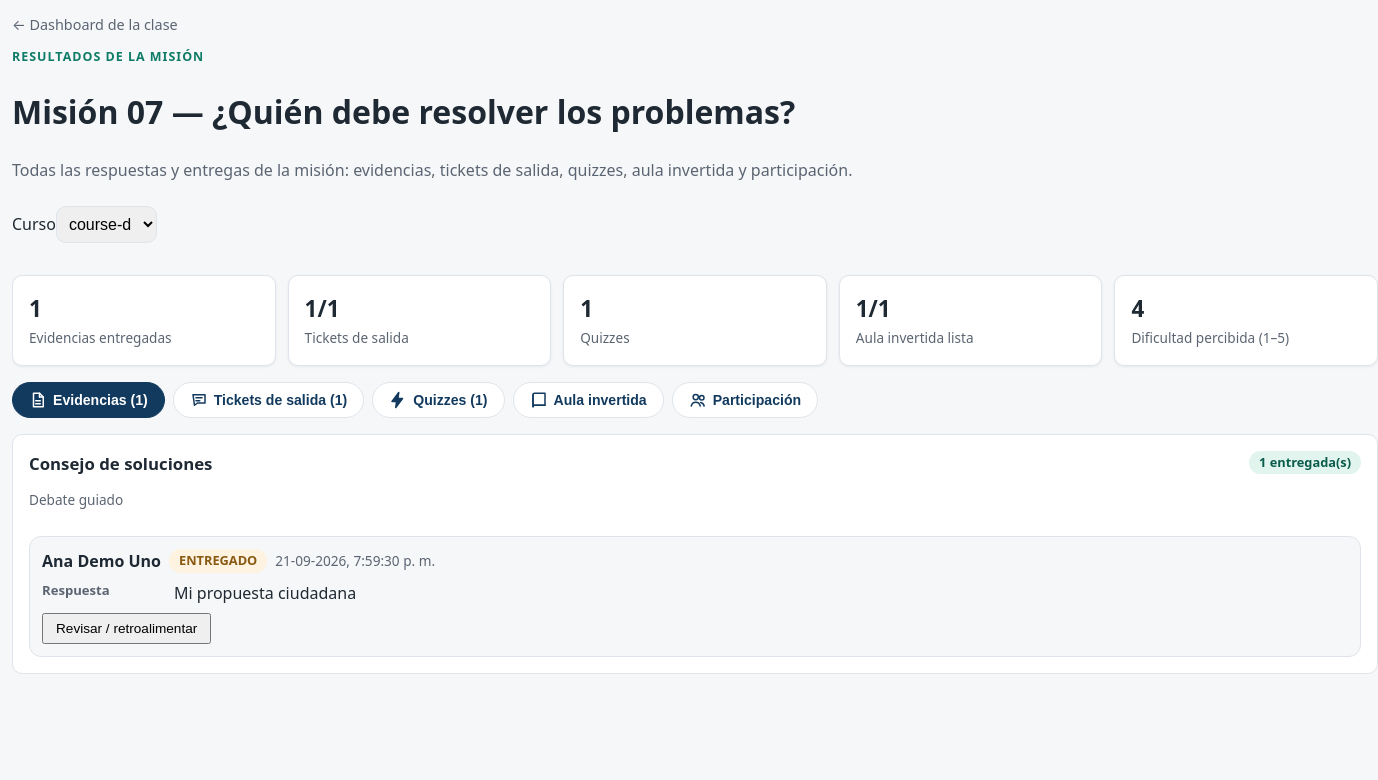
it: MissionResultsView › muestra evidencias, tickets y quizzes de la misión
The width and height of the screenshot is (1378, 780).
Click the tab with class "tab" showing "Tickets de salida (1)". click: (268, 400)
box: [173, 382, 364, 418]
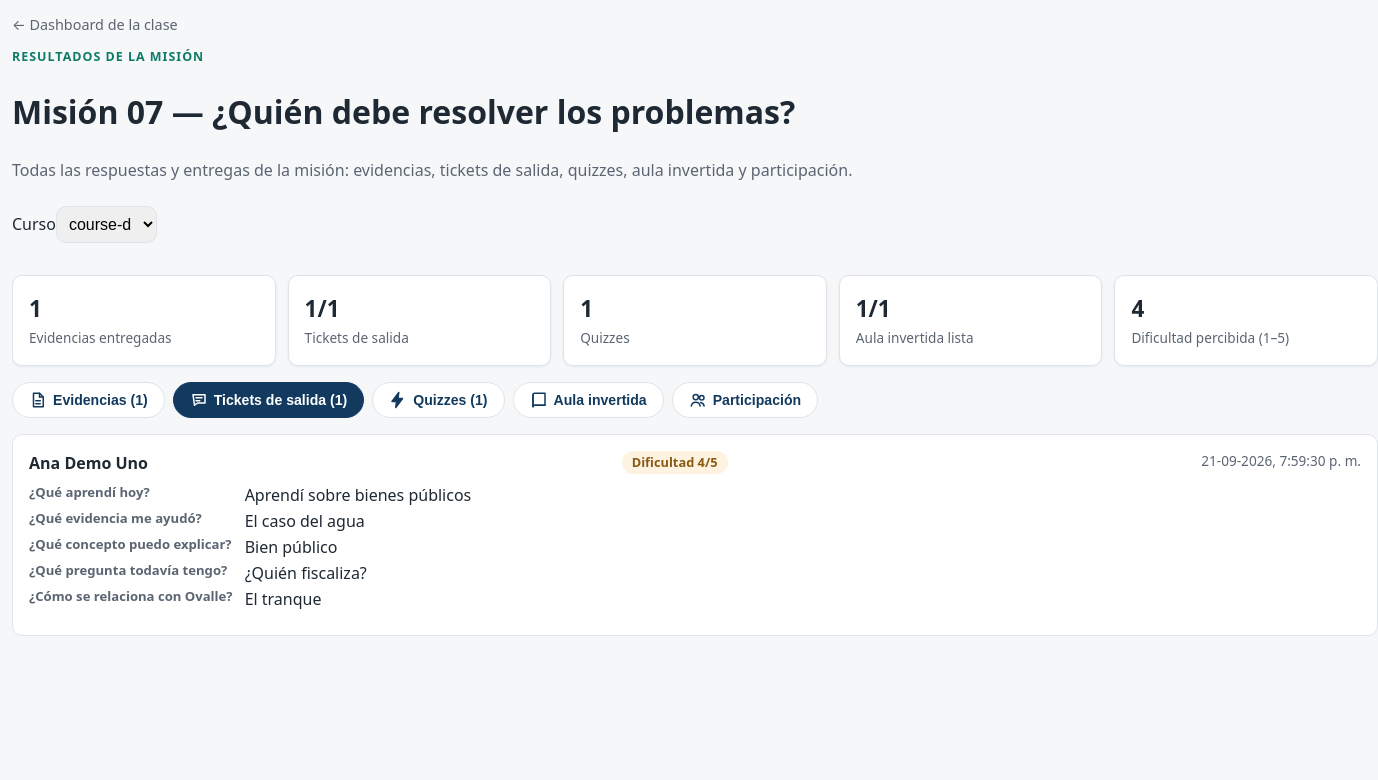
Expected: the text "Aprendí sobre bienes públicos" is shown, [245, 484, 471, 506]
Expected: the text "El tranque" is shown, [245, 588, 322, 610]
Click the tab with class "tab" showing "Quizzes (1)". click: (438, 400)
box: [372, 382, 504, 418]
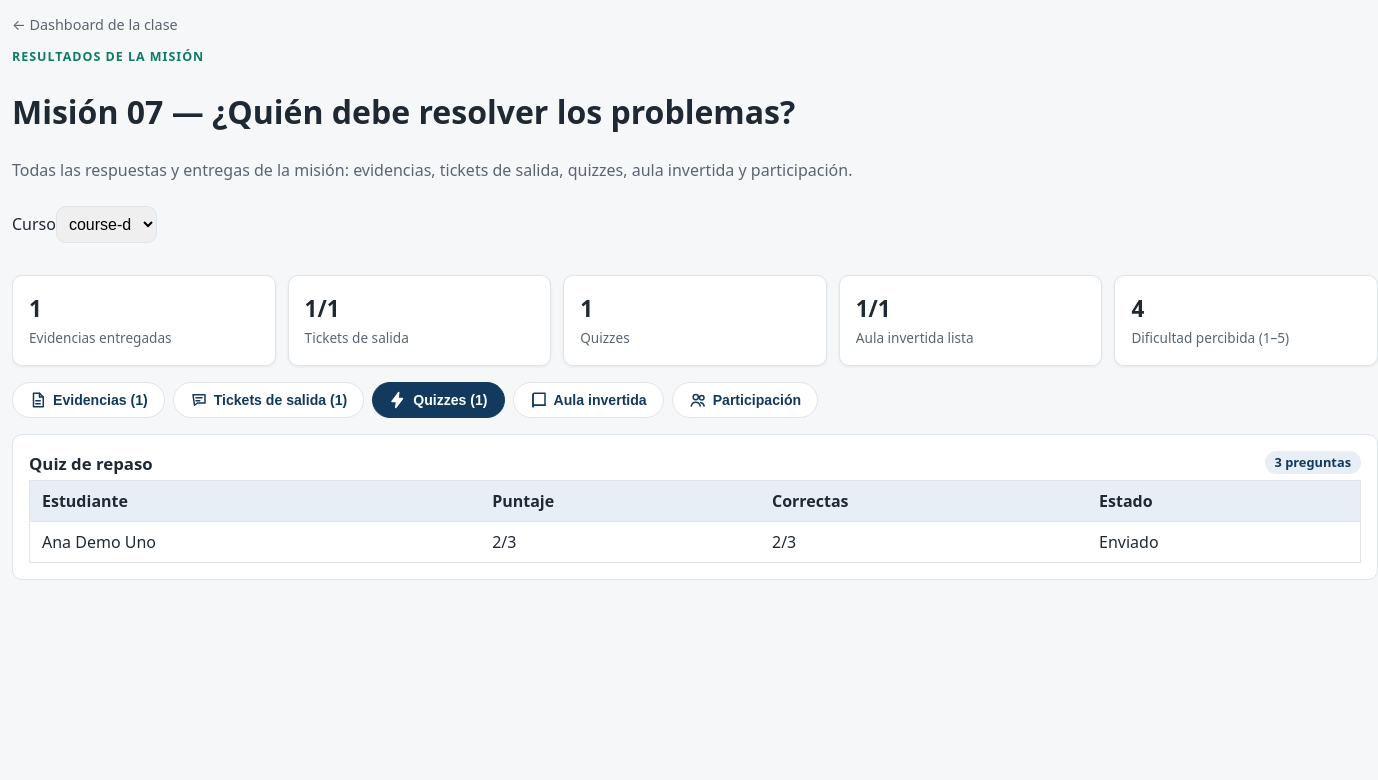
Expected: the text "Quiz de repaso" is shown, [29, 451, 153, 476]
Expected: the text "2/3" is shown, [480, 522, 760, 563]
